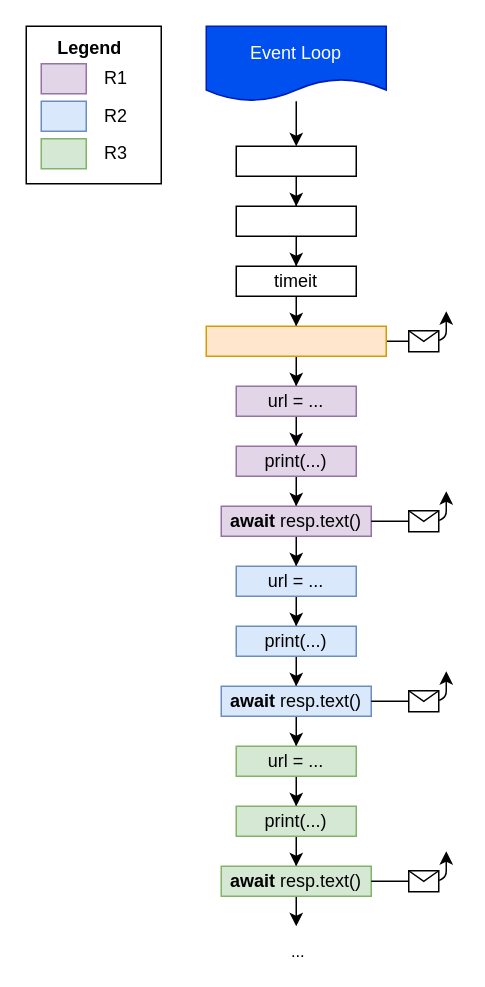
Image size: 485x987. Some labels were removed from this diagram. Here are the shapes that lost their labels. From the top down, the box of each, then its label:
(235, 145, 356, 176): main()
(235, 205, 356, 236): print
(205, 325, 386, 356): await asyncio.gather
